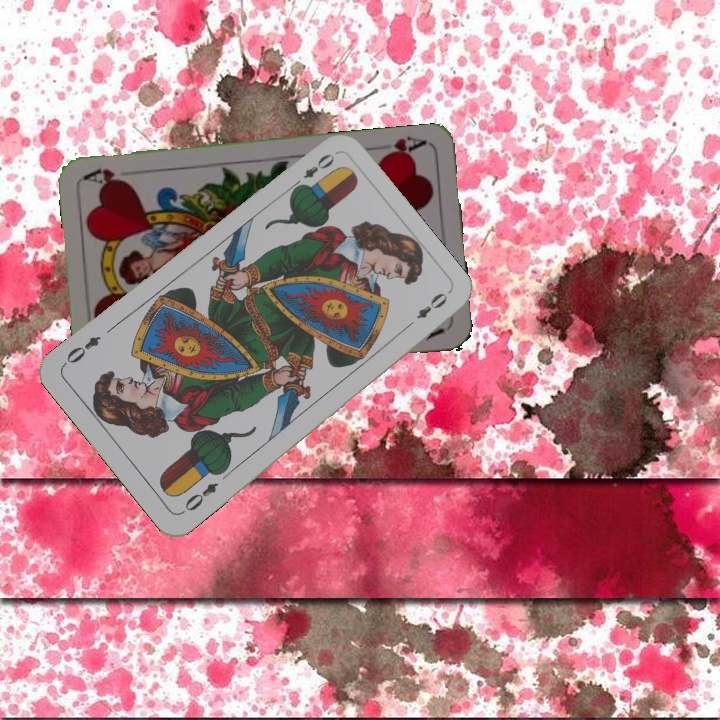EO: (287, 149, 338, 192), (177, 478, 221, 517)
HA: (377, 132, 430, 162)
